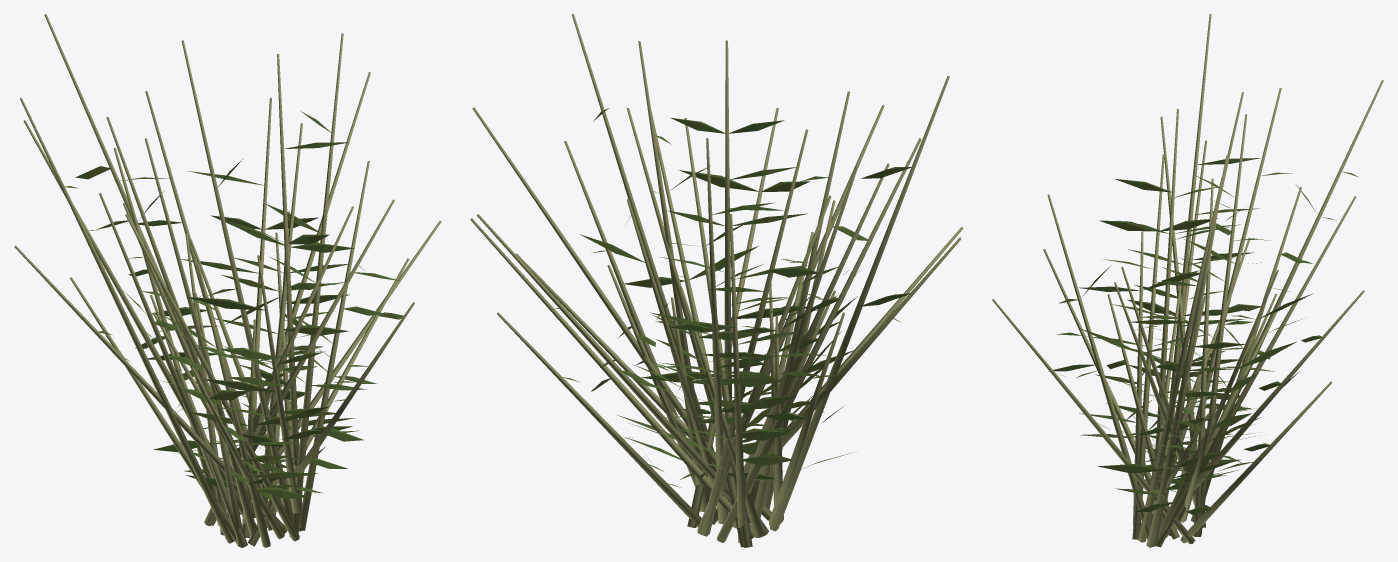
File: shrub.glb
3 views of the same model, side by side, from view 1: azimuth 30°, elevation 25°; view 2: azimuth 150°, elevation 25°; view 3: azimuth 270°, elevation 25° (orthographic). The views are drawn at different scales.
Visible parts, largest first — view 1: shrub; view 2: shrub; view 3: shrub.
Boxes of the visible parts, x1,y1,x2,y2 form: shrub: [14, 14, 441, 547]; shrub: [470, 14, 963, 547]; shrub: [992, 14, 1383, 547].
Bounding box in the file's own units: 1.69 × 1.76 × 1.47.
